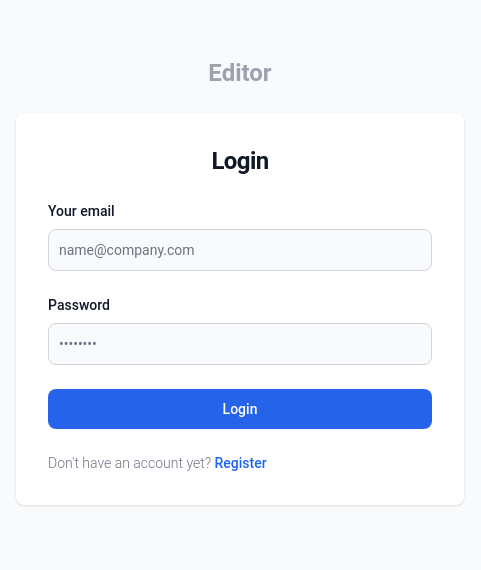
Scenario: Editor › should display the register page
Click the link "Register".
click(241, 463)  # box [215,455,267,471]
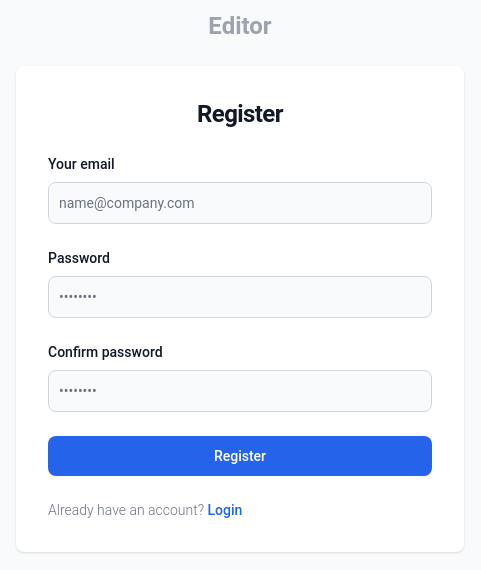
Now the heading "Register" is shown, box [197,100,283,128]
